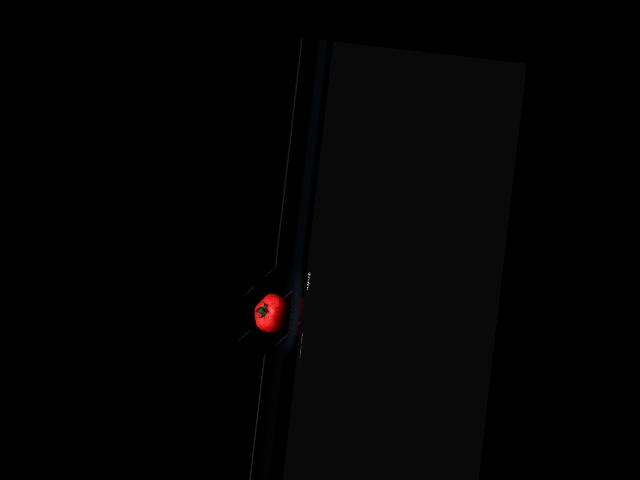tomato: (251, 291, 290, 334)
